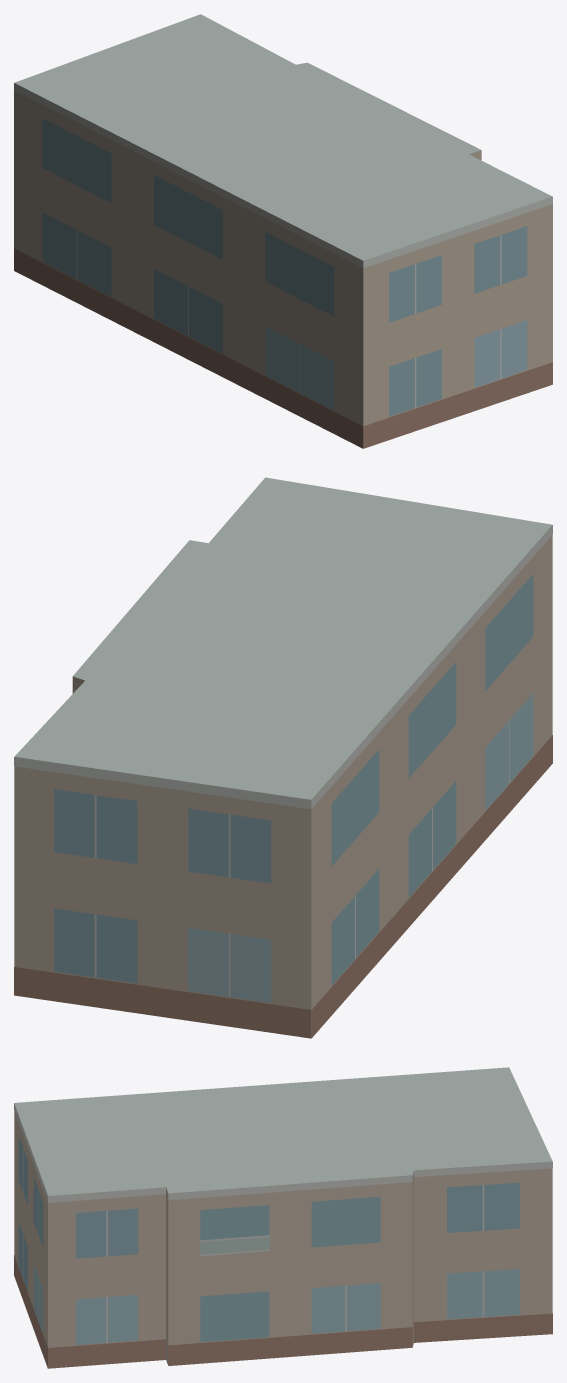
File: survey-upis-33039358.glb
3 renders of one model, top to bottom at view 1: azimuth 30°, elevation 25°; view 2: azimuth 150°, elevation 25°; view 3: azimuth 270°, elevation 25°, orthographic. The views are drawn at different scales.
Visible parts, largest first — view 1: survey-upis-33039358.tmp; view 2: survey-upis-33039358.tmp; view 3: survey-upis-33039358.tmp.
Boxes of the visible parts, x1,y1,x2,y2 form: survey-upis-33039358.tmp: (14,14,552,448); survey-upis-33039358.tmp: (14,477,552,1038); survey-upis-33039358.tmp: (14,1067,552,1368).
Bounding box in the file's own units: 9.77 × 6.1 × 17.27.
